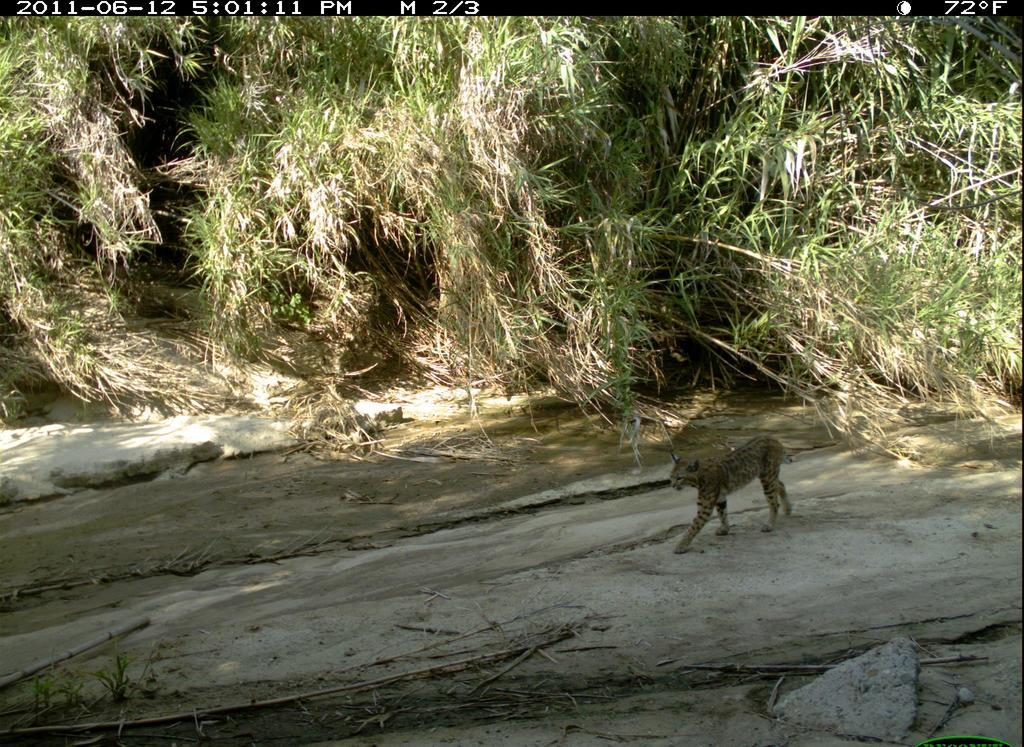bobcat: (646, 428, 802, 561)
